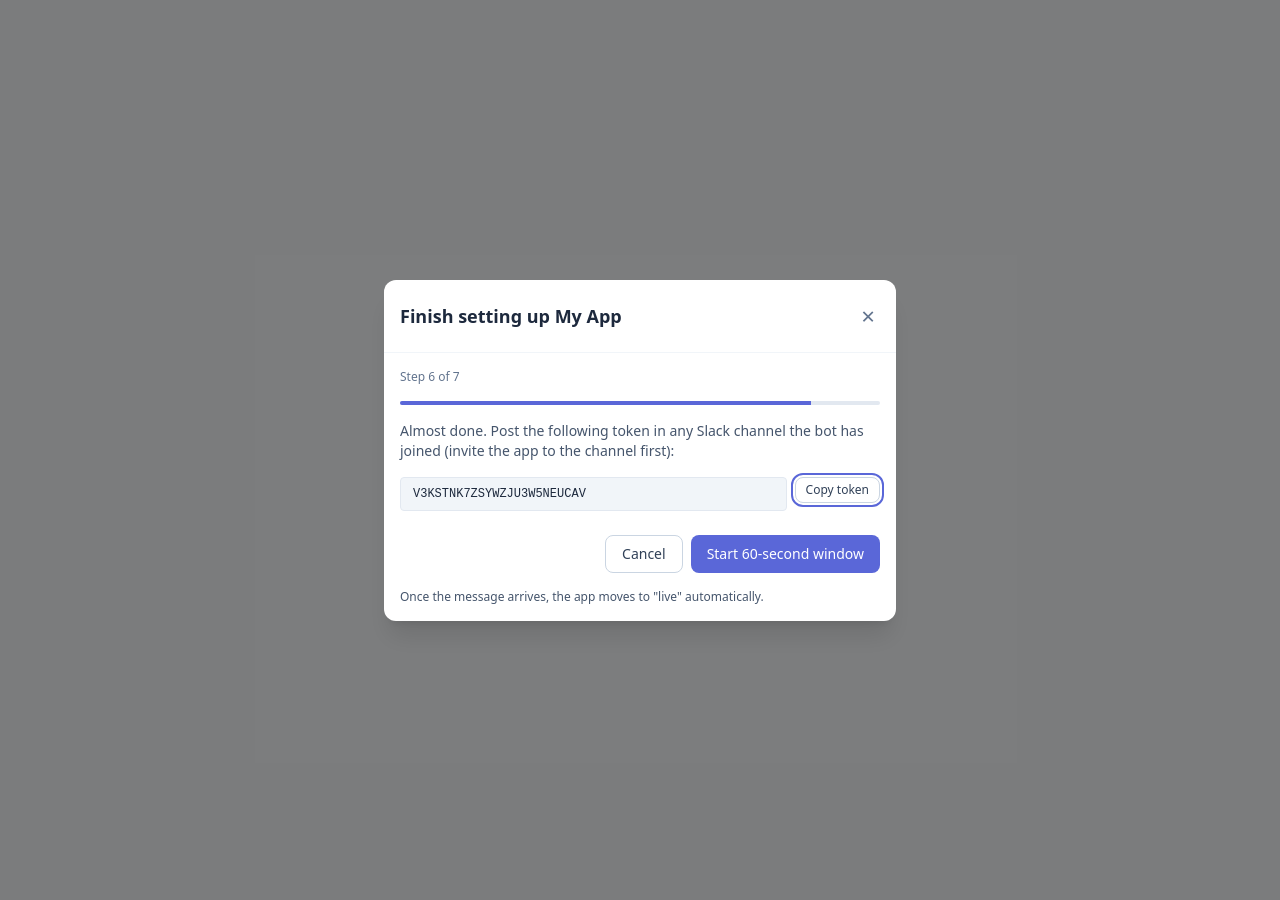
Test case: SlackAppWizard - test message › copies the test token and says so
Click the button "Copy token". click: (837,490)
box: [795,476,880,502]
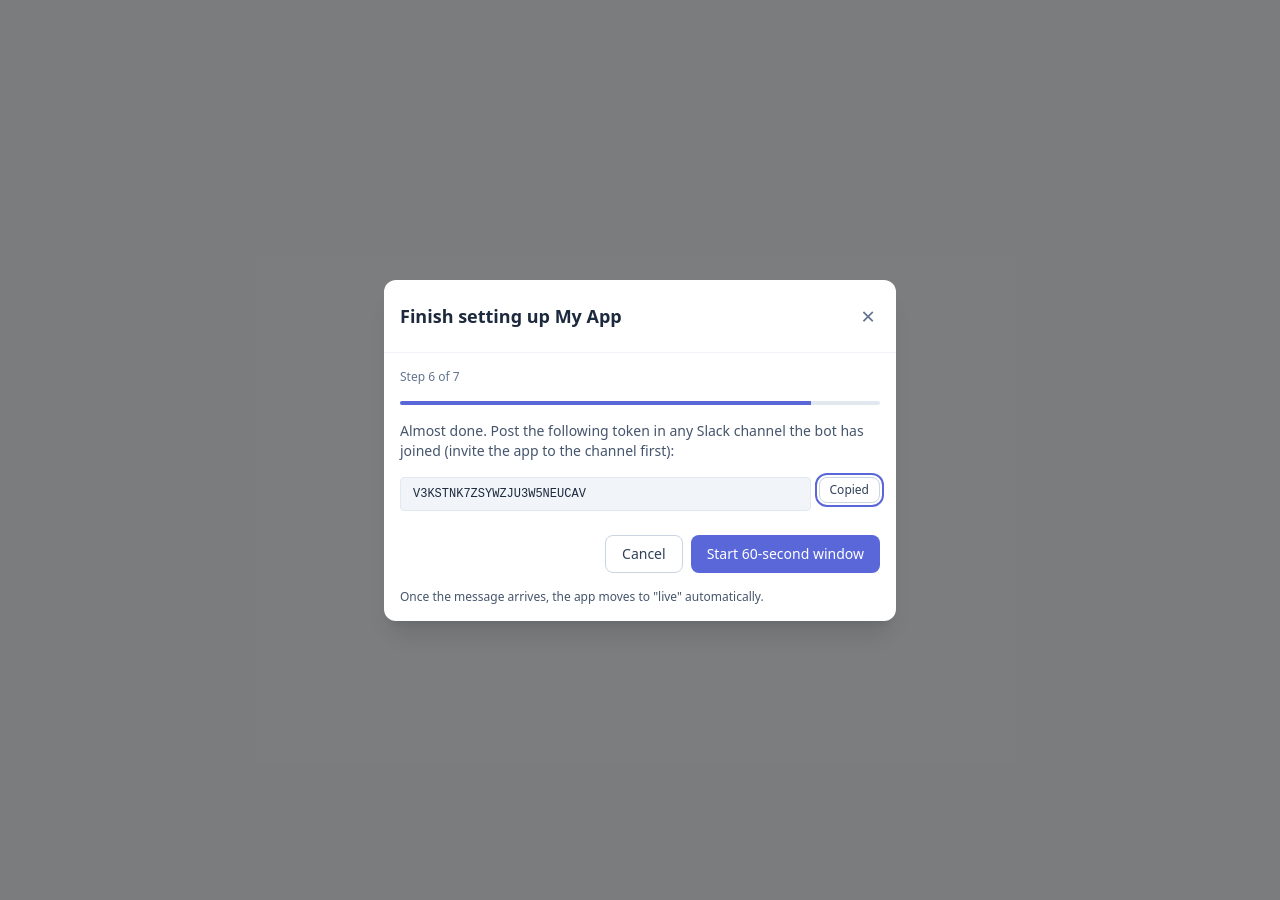
Now the button "Copied" is shown, box [818,476,880,502]
